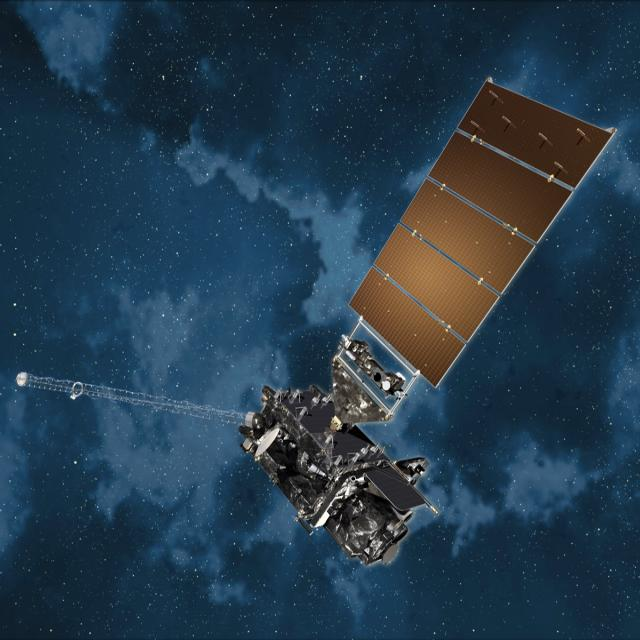satellite: (13, 72, 618, 578)
